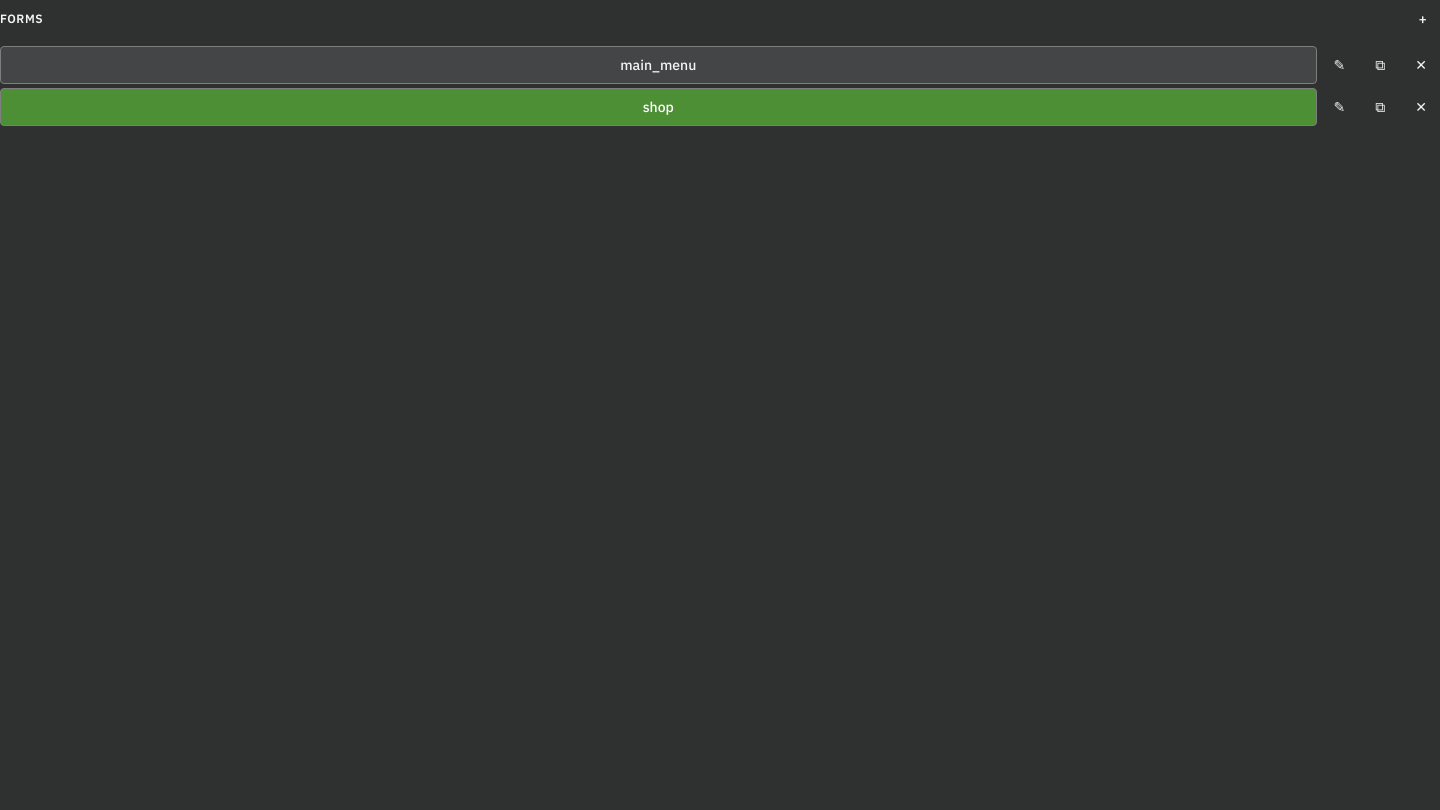
brings a deleted form back through the toast's Undo action
This screenshot has width=1440, height=810.
Click the button named "Delete form shop". click: (1421, 107)
box: [1402,88,1439,126]
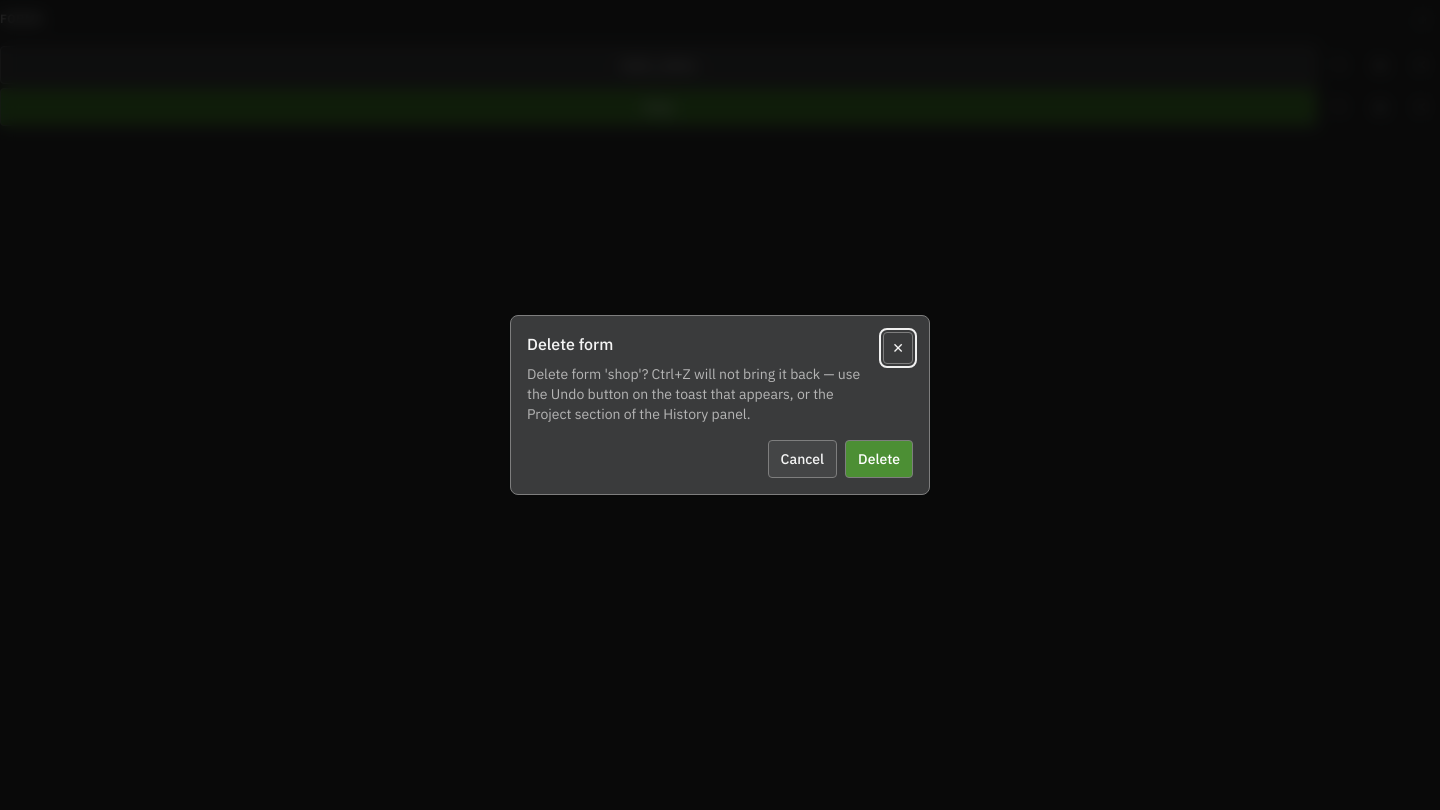
Click the button "Delete". click: (879, 459)
box: [845,440,913,478]
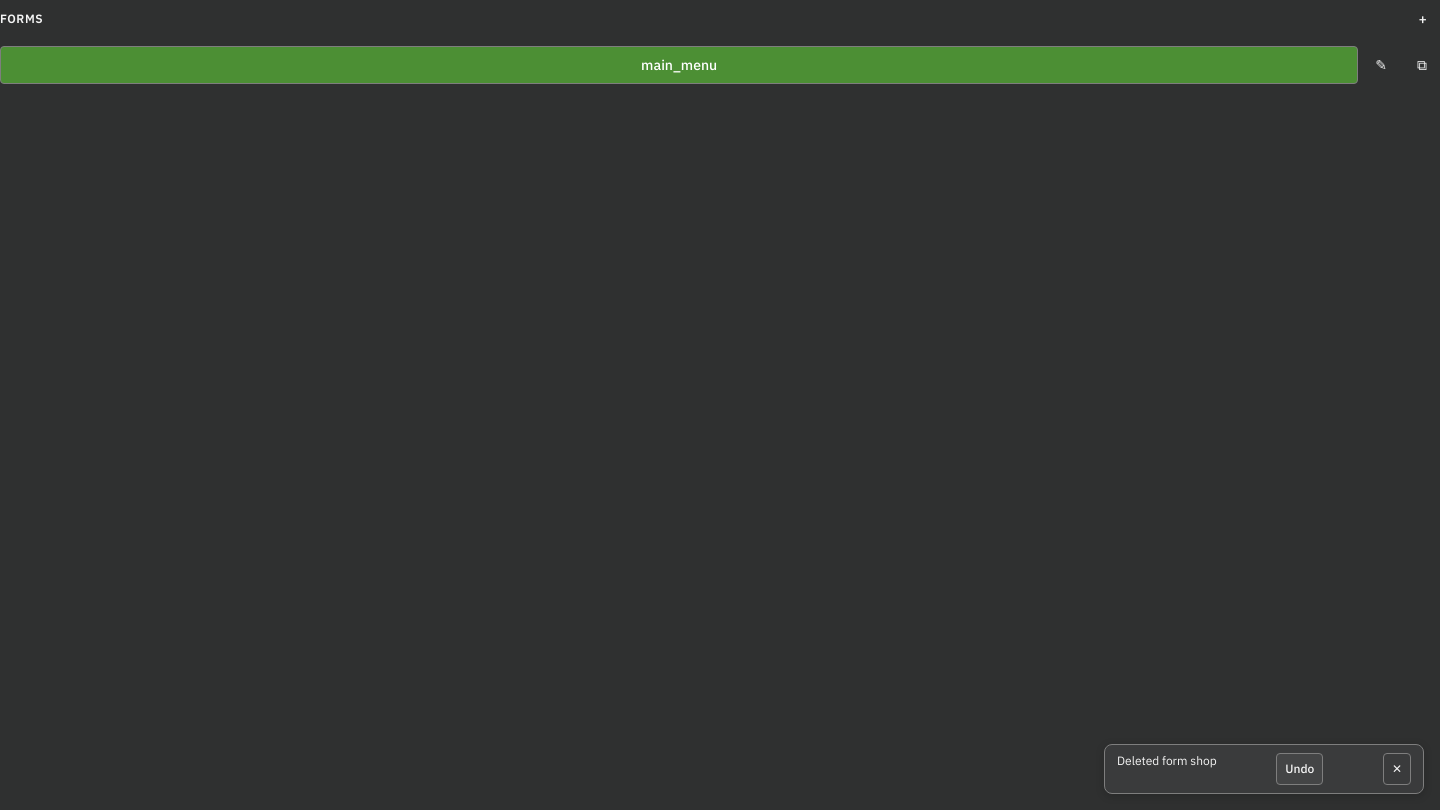
Click the button "Undo". click: (1300, 769)
box: [1276,753,1323,785]
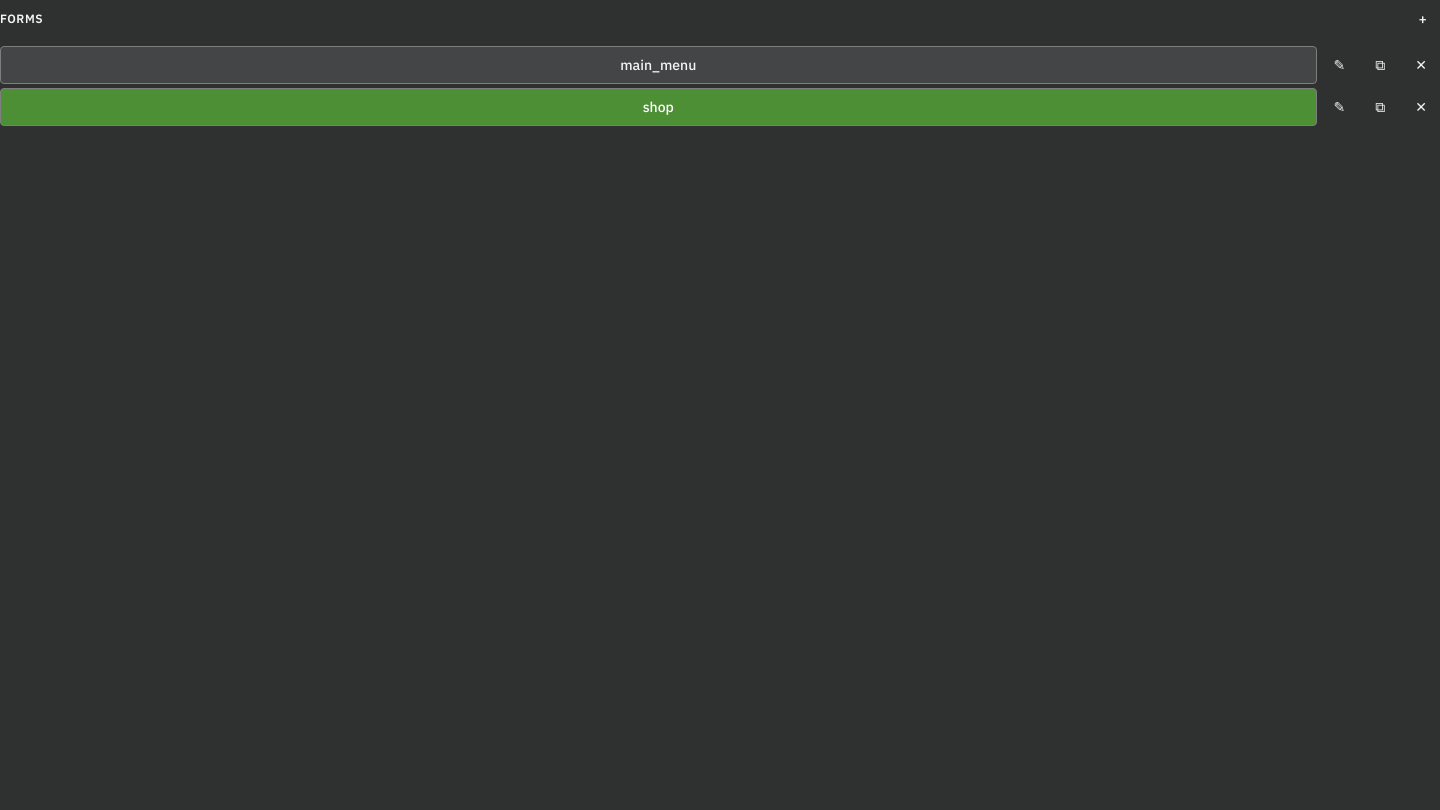
Now the button "Undo" is gone
